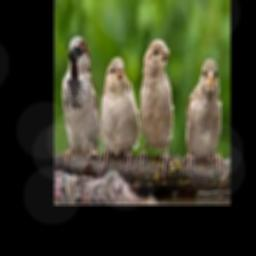Sparrow: (61, 35, 100, 166), (138, 39, 173, 176), (184, 58, 222, 175), (100, 56, 140, 165)
